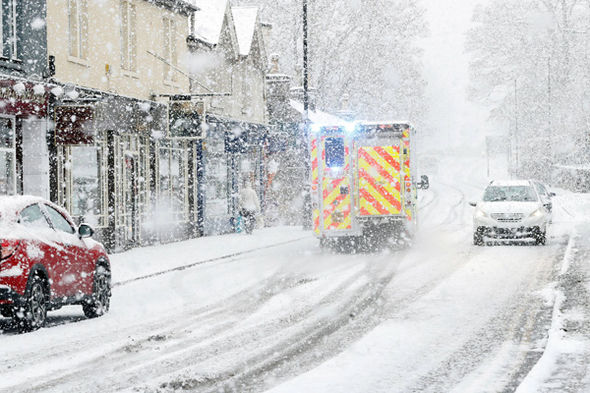car: (1, 192, 112, 328), (466, 179, 546, 247)
truck: (306, 122, 429, 256)
